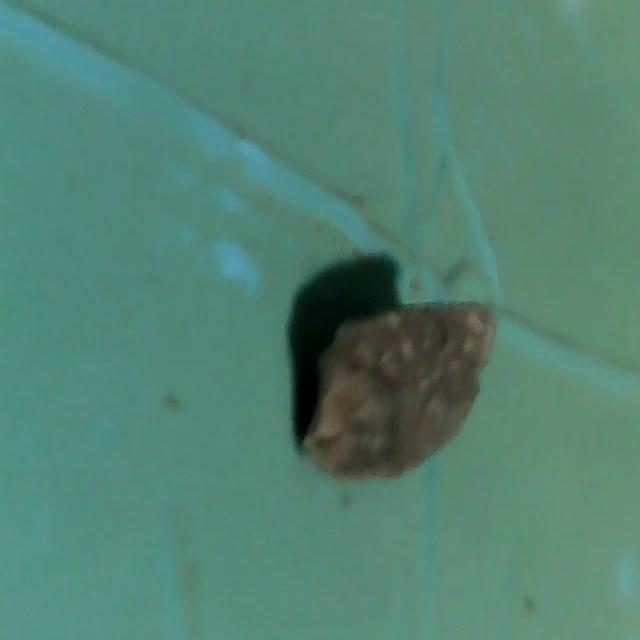rock: (297, 289, 500, 502)
